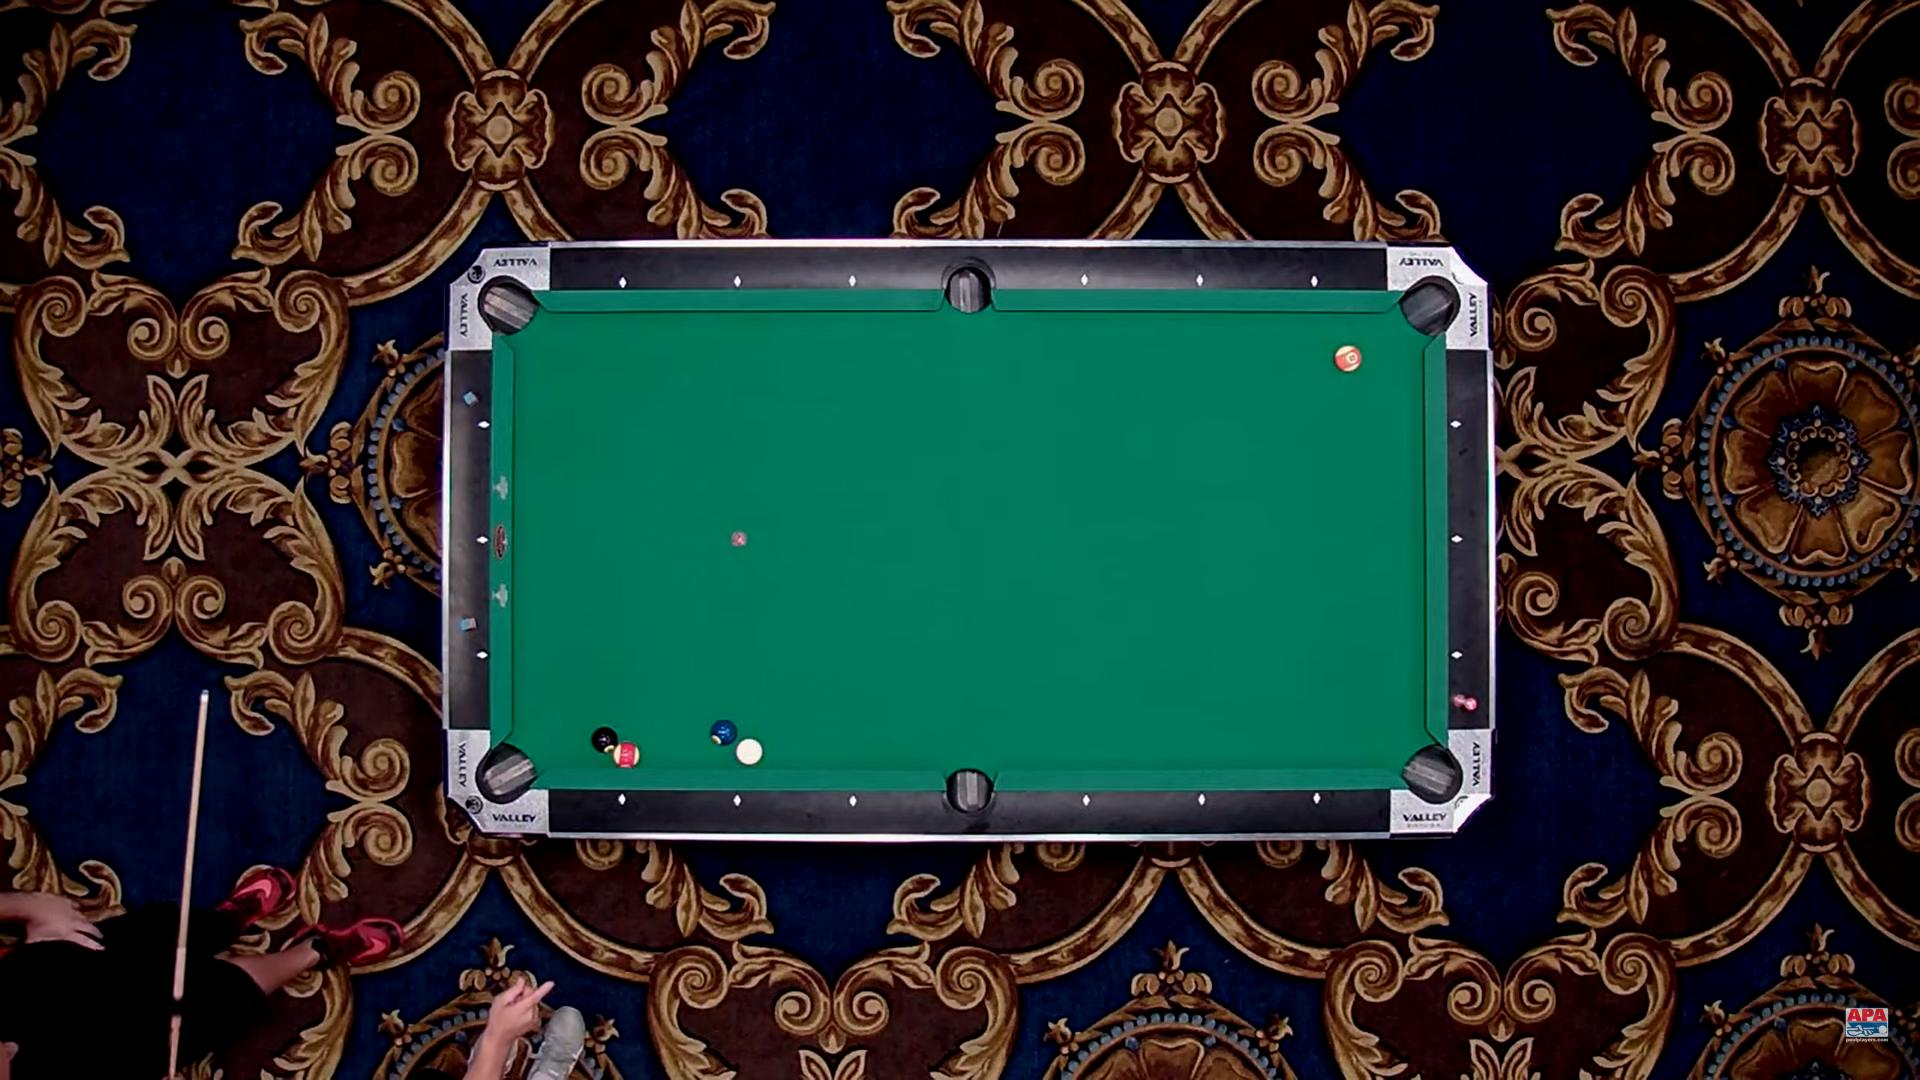Black: (591, 727, 618, 753)
Cue: (736, 738, 764, 765)
Dot: (616, 276, 630, 290), (731, 274, 745, 289), (1077, 273, 1092, 287), (1193, 273, 1208, 287), (1309, 791, 1324, 806), (1195, 793, 1209, 807), (845, 794, 860, 808), (615, 793, 629, 807), (476, 647, 489, 662), (476, 533, 489, 547), (845, 274, 860, 287), (1308, 274, 1321, 289), (1451, 647, 1464, 662), (1079, 794, 1093, 807), (477, 418, 491, 431), (1449, 418, 1462, 431), (1451, 533, 1464, 546), (731, 794, 744, 807)
Solid: (709, 720, 738, 746)
Striped: (1335, 345, 1361, 372), (612, 744, 640, 769)
